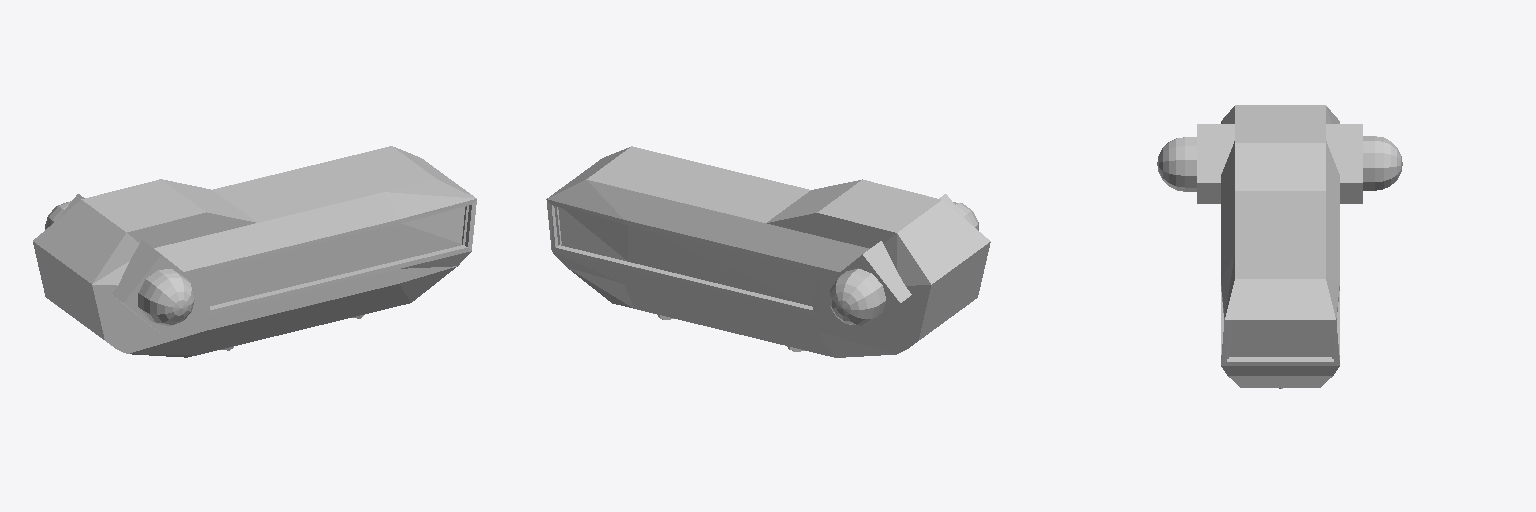
Rendered from aircar_bus.obj.
The picture shows the model from 3 angles: view 1: azimuth 30°, elevation 25°; view 2: azimuth 150°, elevation 25°; view 3: azimuth 270°, elevation 25°; orthographic projection.
Parts seen in each view (by area): view 1: darkgrey, yellowlight, whitelight, lightgrey; view 2: darkgrey, yellowlight, whitelight, lightgrey; view 3: darkgrey, lightgrey, whitelight, yellowlight.
Part boxes in pixels (left/top/right/bottom): darkgrey: left=33, top=146, right=476, bottom=357; yellowlight: left=210, top=206, right=466, bottom=305; whitelight: left=45, top=201, right=360, bottom=350; lightgrey: left=59, top=194, right=363, bottom=348; darkgrey: left=546, top=146, right=990, bottom=357; yellowlight: left=557, top=207, right=812, bottom=306; whitelight: left=662, top=202, right=978, bottom=351; lightgrey: left=658, top=194, right=965, bottom=349; darkgrey: left=1221, top=105, right=1339, bottom=387; lightgrey: left=1197, top=124, right=1362, bottom=203; whitelight: left=1157, top=136, right=1402, bottom=388; yellowlight: left=1229, top=324, right=1331, bottom=356.
Bounding box in the file's own units: 508 × 195 × 279.